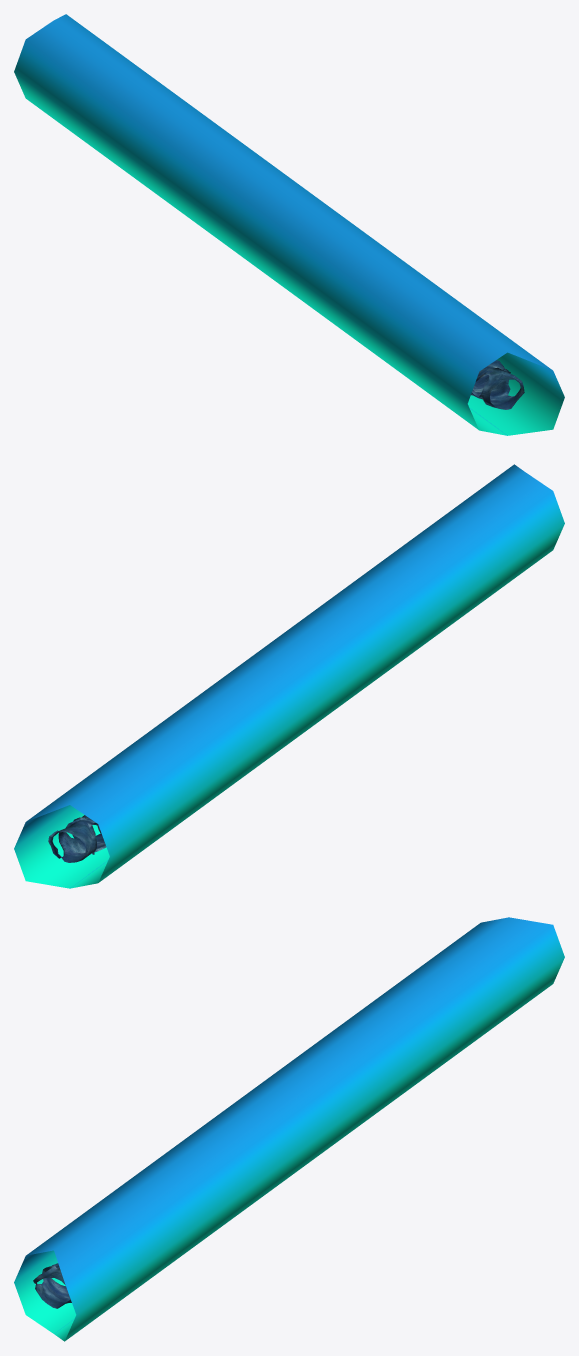
File: stage_title.fbx
3 renders of one model, top to bottom at view 1: azimuth 30°, elevation 25°; view 2: azimuth 150°, elevation 25°; view 3: azimuth 330°, elevation 25°, orthographic.
Visible parts, largest first — view 1: screen, stgae; view 2: screen, stgae; view 3: screen, stgae.
Part boxes in pixels (x1=…): screen: x1=14, y1=14, x2=564, y2=435; stgae: x1=471, y1=360, x2=524, y2=409; screen: x1=14, y1=464, x2=564, y2=888; stgae: x1=48, y1=815, x2=106, y2=862; screen: x1=14, y1=917, x2=564, y2=1341; stgae: x1=33, y1=1263, x2=71, y2=1308.
Bounding box in the file's own units: 1896 × 1896 × 20066.
2 materials, 2 textured.
